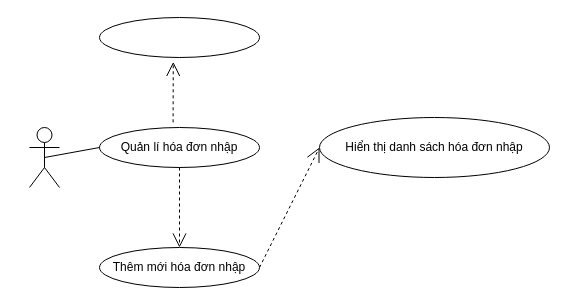
Image size: 567x305. Some labels were removed from this diagram. Here are the shapes that lost their labels. From the top down, the centre of each, then its label:
the point at 179,37: Đang nhập
the point at 44,157: Nhân viên
